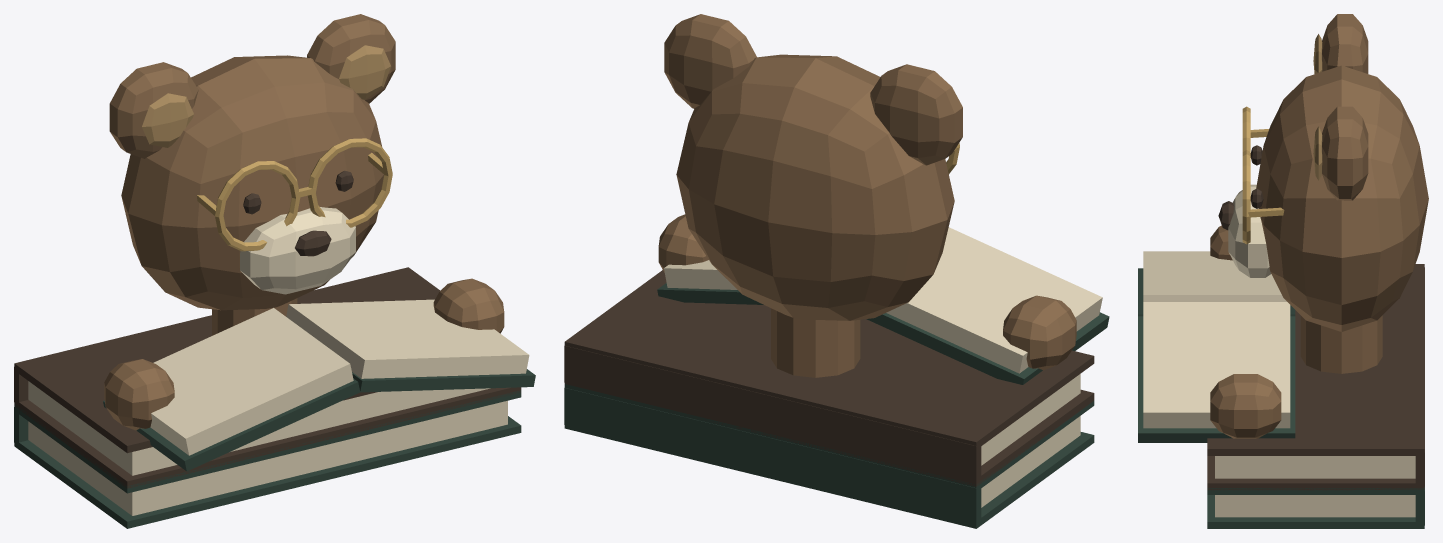
The model's file is 13_Gommeori_Book.fbx.
The picture shows the model from 3 angles, left to right: view 1: azimuth 30°, elevation 25°; view 2: azimuth 150°, elevation 25°; view 3: azimuth 270°, elevation 25°; orthographic projection. The views are drawn at different scales.
Visible parts, largest first — view 1: 13_Gommeori_Book__Bear_Head, 13_Gommeori_Book__Books, 13_Gommeori_Book__Open_Book; view 2: 13_Gommeori_Book__Books, 13_Gommeori_Book__Bear_Head, 13_Gommeori_Book__Open_Book; view 3: 13_Gommeori_Book__Bear_Head, 13_Gommeori_Book__Books, 13_Gommeori_Book__Open_Book.
Part boxes in pixels (x1,y1,x2,y2): 13_Gommeori_Book__Bear_Head: (109,14,395,335); 13_Gommeori_Book__Books: (14,267,521,528); 13_Gommeori_Book__Open_Book: (103,278,535,471); 13_Gommeori_Book__Books: (564,270,1094,528); 13_Gommeori_Book__Bear_Head: (664,14,962,377); 13_Gommeori_Book__Open_Book: (657,214,1109,384); 13_Gommeori_Book__Bear_Head: (1218,14,1428,373); 13_Gommeori_Book__Books: (1207,264,1424,528); 13_Gommeori_Book__Open_Book: (1138,225,1295,442).
Size of the model in its own units: 256 by 238 by 170.
2 materials, 2 textured.
